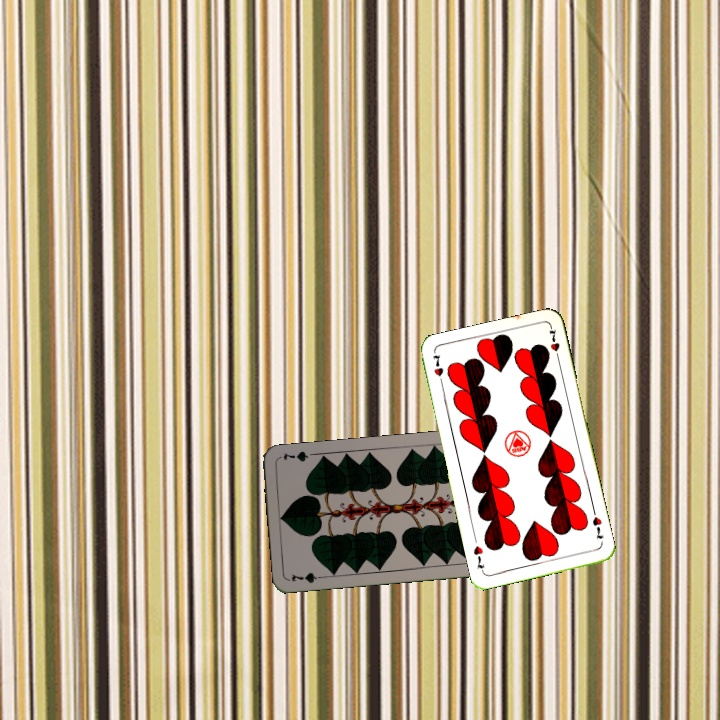G7: (287, 568, 328, 586)
H7: (429, 350, 446, 389), (588, 512, 606, 542)
